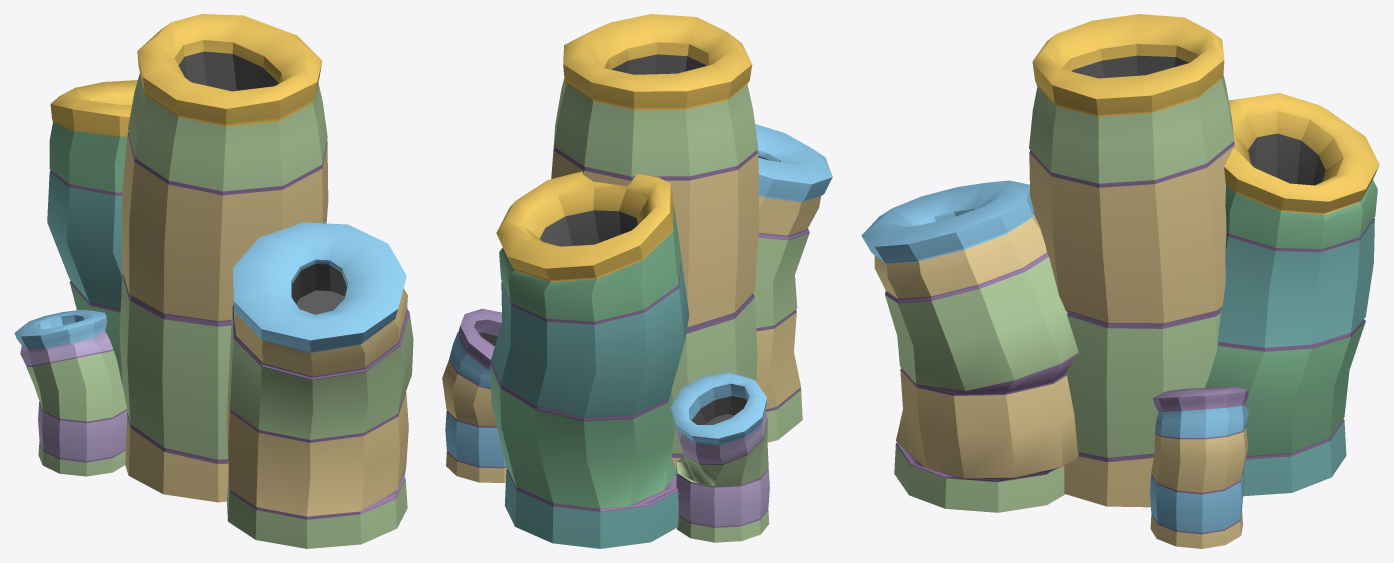
The model's file is Trees.fbx.
The picture shows the model from 3 angles, left to right: view 1: azimuth 30°, elevation 25°; view 2: azimuth 150°, elevation 25°; view 3: azimuth 270°, elevation 25°; orthographic projection. The views are drawn at different scales.
Parts seen in each view (by area): view 1: Trees; view 2: Trees; view 3: Trees.
Boxes of the visible parts, x1=… form: Trees: x1=14, y1=14, x2=413, y2=548; Trees: x1=442, y1=14, x2=832, y2=548; Trees: x1=861, y1=14, x2=1379, y2=548.
Size of the model in its own units: 527 by 719 by 654.
